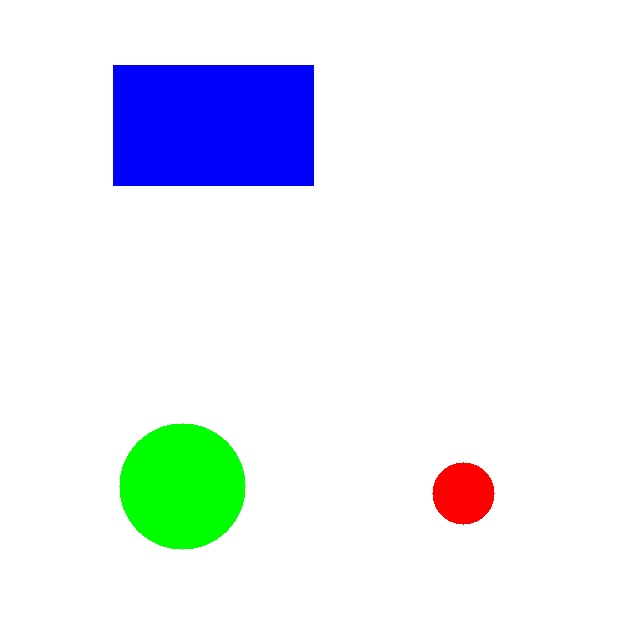cartao: (113, 65, 313, 185)
rosca_externa: (119, 423, 245, 549)
rosca_interna: (432, 462, 494, 524)
